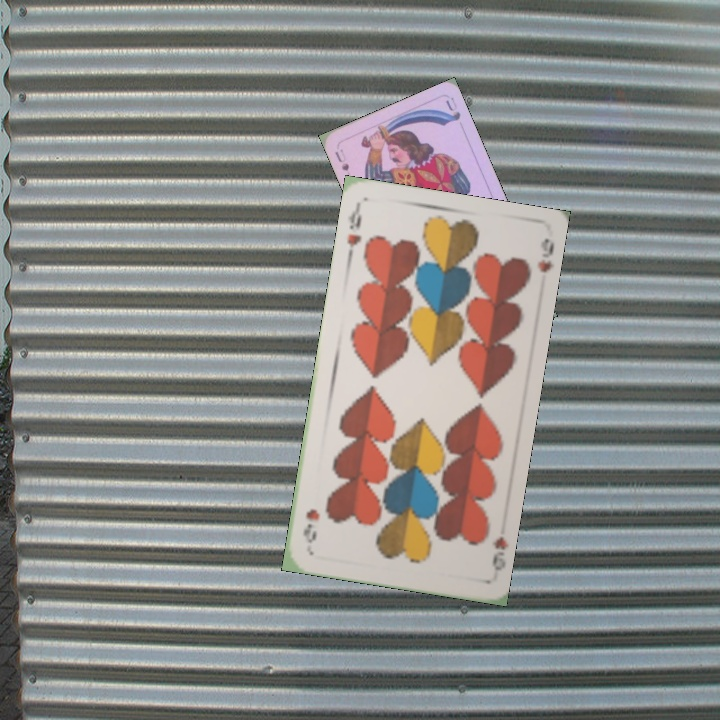H9: (343, 202, 365, 261), (488, 532, 509, 574)
SU: (331, 145, 352, 174)
